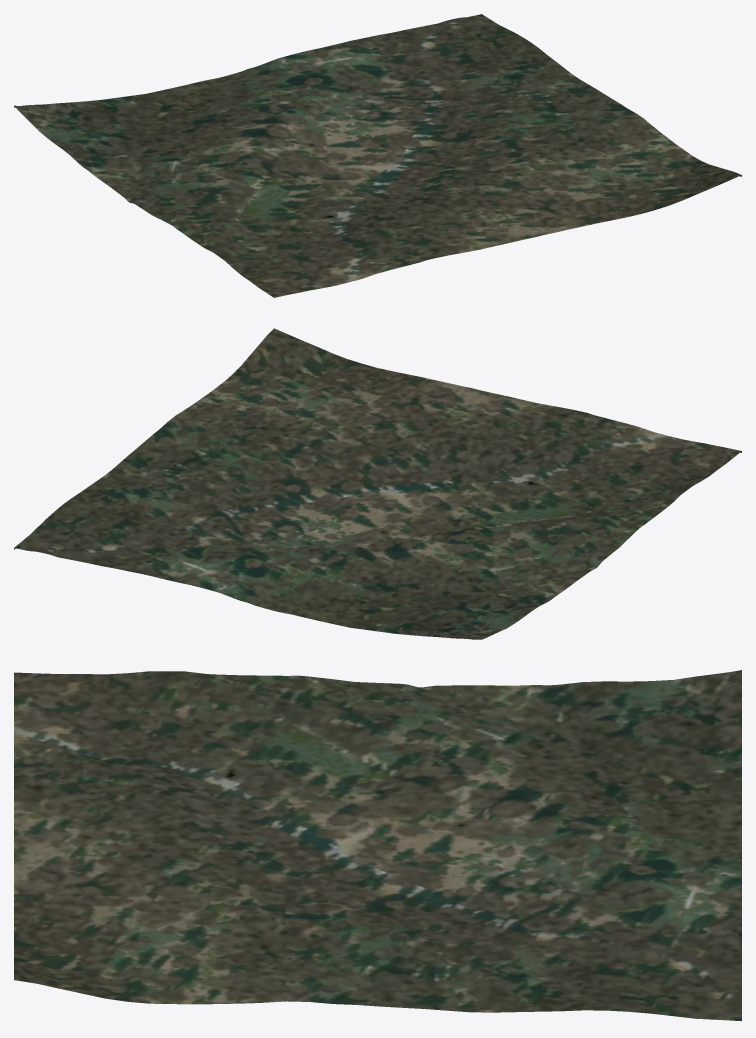
3 views of the same model, one above another, from view 1: azimuth 30°, elevation 25°; view 2: azimuth 150°, elevation 25°; view 3: azimuth 270°, elevation 25° (orthographic). The views are drawn at different scales.
Bounding box in the file's own units: 250 × 15.99 × 241.
1 material, 1 textured.
